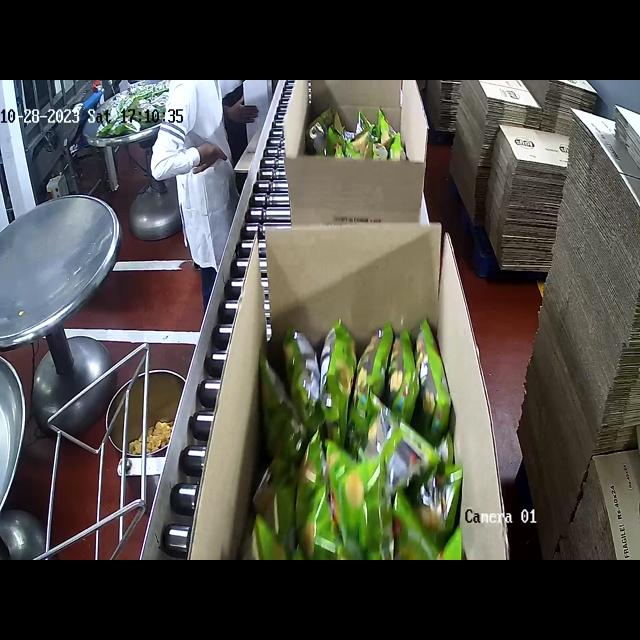yogurt: (251, 316, 462, 558), (309, 106, 411, 170)
